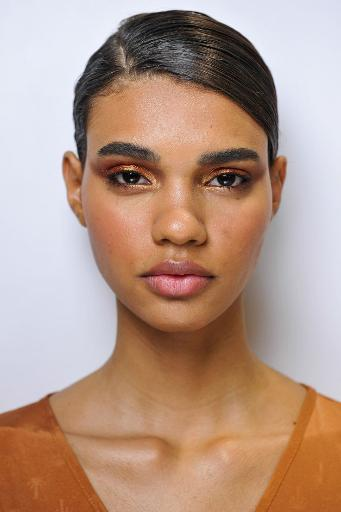left_eye: (204, 170, 254, 195)
left_lip_corner: (208, 271, 221, 287)
right_eye: (105, 168, 155, 195)
right_lip_corner: (136, 271, 149, 289)
